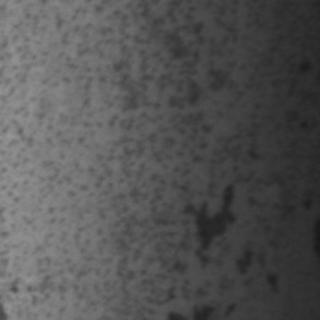pitted_surface: (0, 4, 282, 318)
